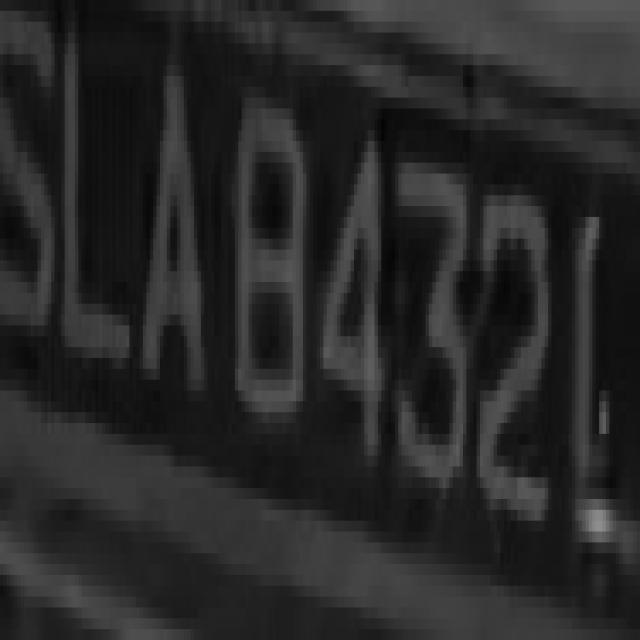2: (463, 119, 562, 532)
3: (388, 65, 480, 510)
4: (310, 87, 395, 499)
8: (225, 54, 306, 456)
A: (129, 11, 208, 455)
L: (51, 11, 146, 412), (555, 152, 633, 596)
S: (0, 0, 48, 347)
